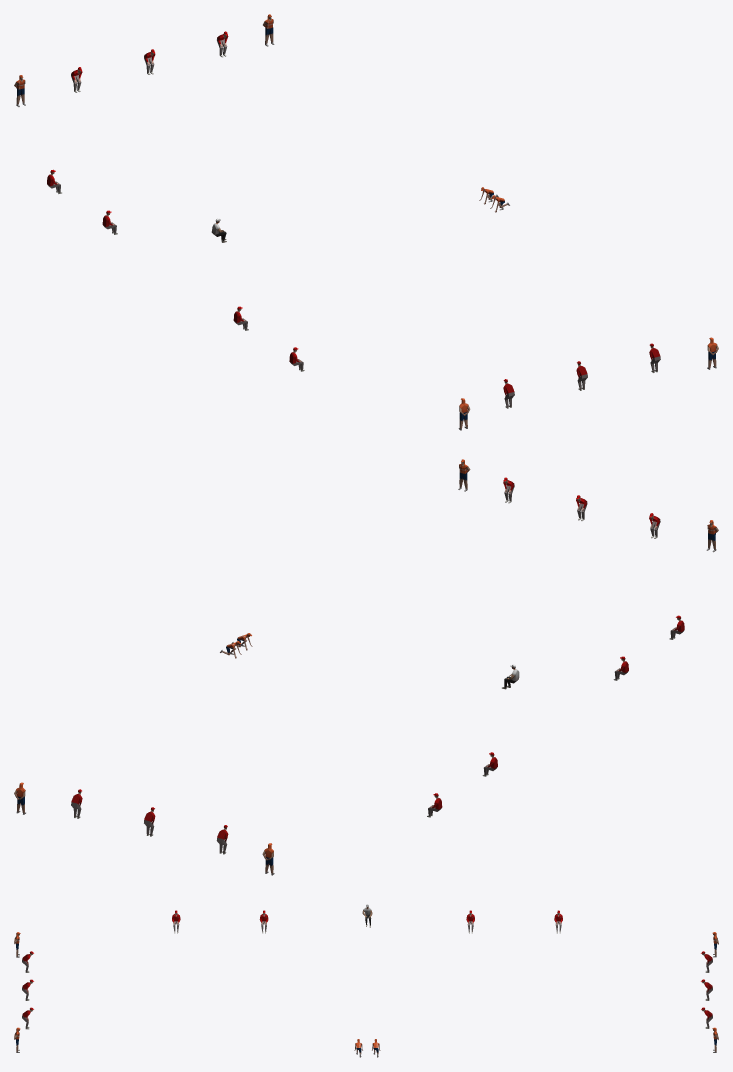
Rendered from court_2_2.obj.
3 renders of one model, top to bottom at view 1: azimuth 30°, elevation 25°; view 2: azimuth 150°, elevation 25°; view 3: azimuth 270°, elevation 25°, orthographic. The views are drawn at different scales.
Size of the model in its own units: 18.92 by 2.91 by 43.62.
4 materials, 4 textured.
